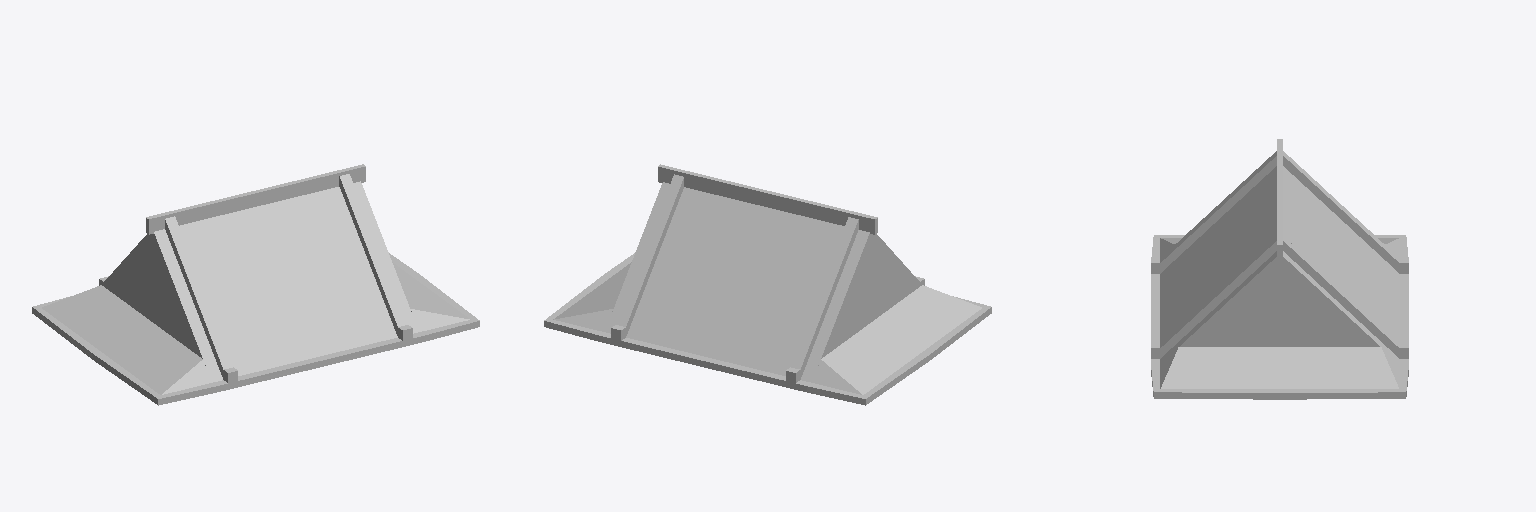
The model's file is Roof.obj.
3 renders of one model, left to right at view 1: azimuth 30°, elevation 25°; view 2: azimuth 150°, elevation 25°; view 3: azimuth 270°, elevation 25°, orthographic.
Parts seen in each view (by area): view 1: Cube_Cube.002, Cube.002_Cube.003; view 2: Cube_Cube.002, Cube.002_Cube.003; view 3: Cube_Cube.002, Cube.002_Cube.003.
Boxes of the visible parts, x1,y1,x2,y2 form: Cube_Cube.002: [32, 174, 479, 405]; Cube.002_Cube.003: [146, 164, 365, 234]; Cube_Cube.002: [544, 174, 991, 405]; Cube.002_Cube.003: [658, 164, 877, 234]; Cube_Cube.002: [1151, 151, 1408, 399]; Cube.002_Cube.003: [1277, 139, 1282, 259].
Size of the model in its own units: 3.15 by 1.18 by 2.16.